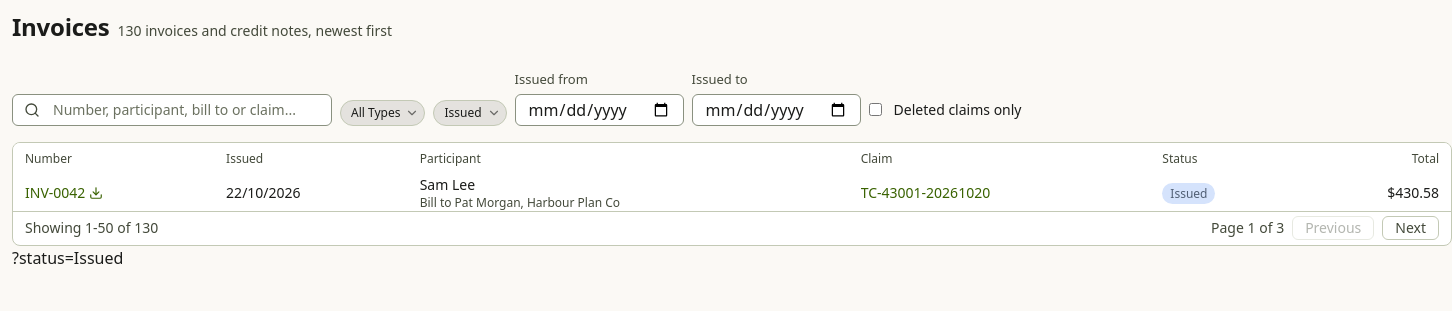
Test: InvoicesPage: the number downloads the PDF › drops the failure line and its announcement when a filter changes
What coordinates should you click on to do the following:
click the button with aria-label "Download INV-0042 PDF"
I would click on:
 (64, 192)
Its box is [25,182,103,202].
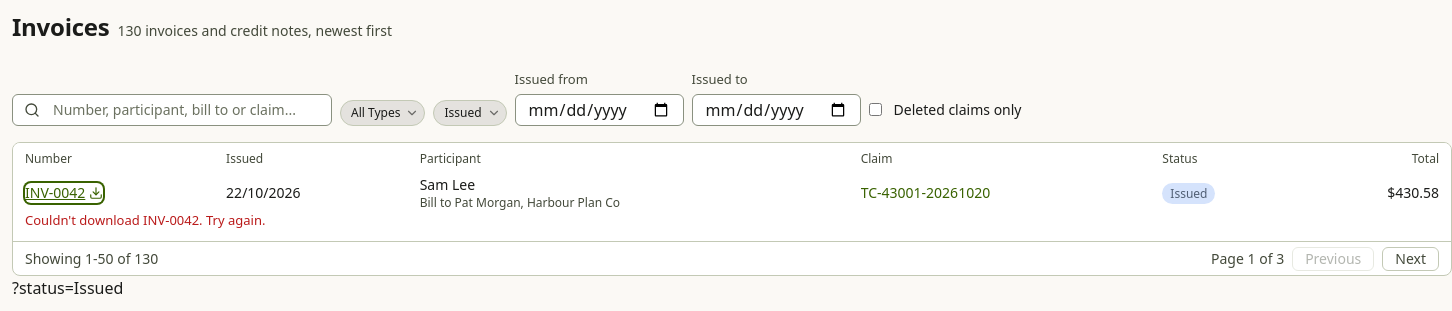
Expected: the text "Couldn't download INV-0042. Try again." is shown 2 times
What coordinates should you click on to do the following:
click the button "Issued"
I would click on:
 (470, 112)
Its box is [433,100,506,126].
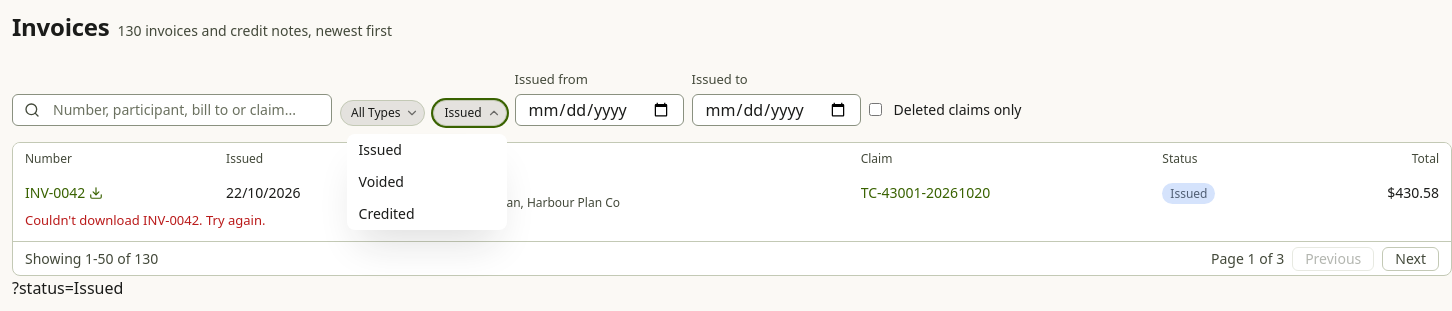
What coordinates should you click on to do the following:
click the option "Voided"
I would click on:
 (381, 181)
Its box is [359,172,404,190].
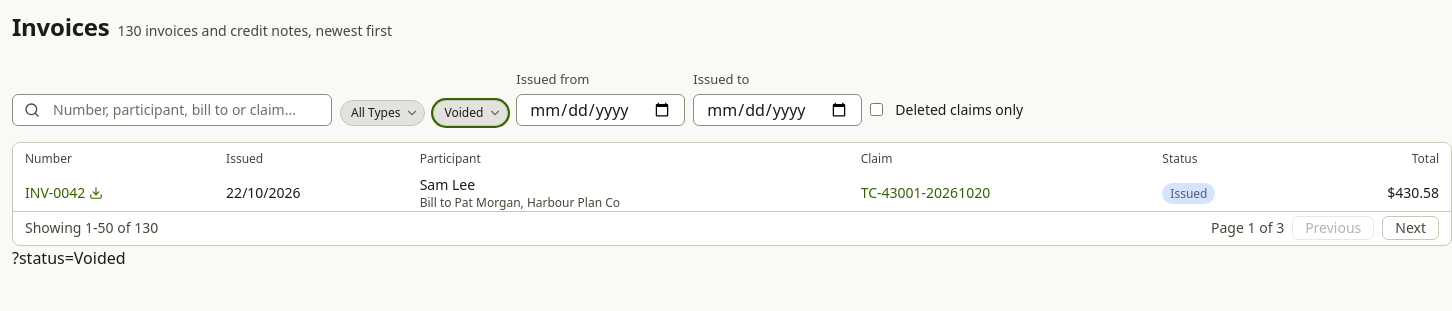
Expected: the text "Couldn't download INV-0042. Try again." is not shown
